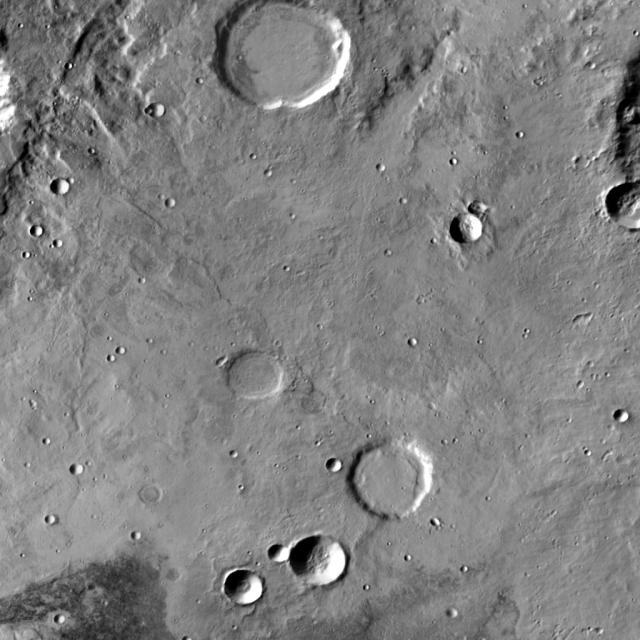crater: (218, 0, 354, 113), (352, 441, 442, 521), (296, 538, 352, 589), (234, 352, 290, 402), (230, 574, 270, 608), (612, 187, 640, 232), (456, 215, 490, 246), (274, 546, 296, 566), (146, 485, 168, 505), (57, 180, 75, 196), (154, 104, 172, 119), (474, 204, 492, 218), (331, 462, 348, 476), (620, 412, 634, 426), (581, 160, 595, 173), (37, 227, 50, 238), (580, 318, 592, 329), (76, 466, 89, 476), (454, 611, 465, 621), (138, 532, 148, 542), (173, 200, 184, 209), (53, 516, 63, 525), (62, 616, 72, 625), (589, 316, 599, 325), (61, 241, 70, 249), (124, 348, 132, 356), (523, 133, 531, 141), (466, 569, 474, 577), (94, 148, 102, 156), (72, 178, 80, 186), (574, 376, 582, 384), (422, 298, 430, 306), (434, 404, 442, 412), (222, 360, 230, 368), (144, 278, 152, 286), (383, 167, 392, 174), (269, 172, 278, 179), (438, 521, 447, 528), (30, 253, 38, 260), (152, 108, 160, 115), (401, 192, 408, 200), (587, 57, 595, 64), (416, 341, 424, 348), (390, 252, 398, 259), (614, 426, 621, 434), (602, 630, 610, 637), (71, 64, 78, 71), (49, 440, 56, 447), (114, 356, 122, 362), (449, 154, 457, 160), (410, 558, 418, 564), (198, 109, 206, 115), (582, 446, 590, 452), (195, 73, 202, 79), (157, 187, 164, 193)
